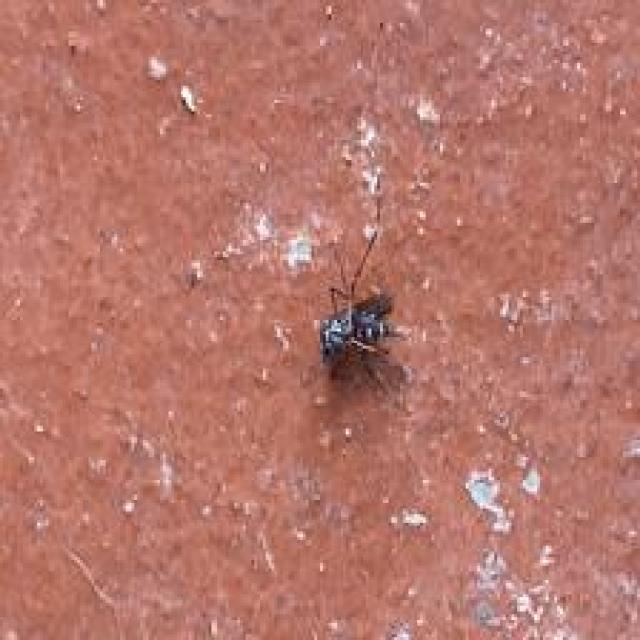Aedes albopictus: (316, 228, 410, 386)
